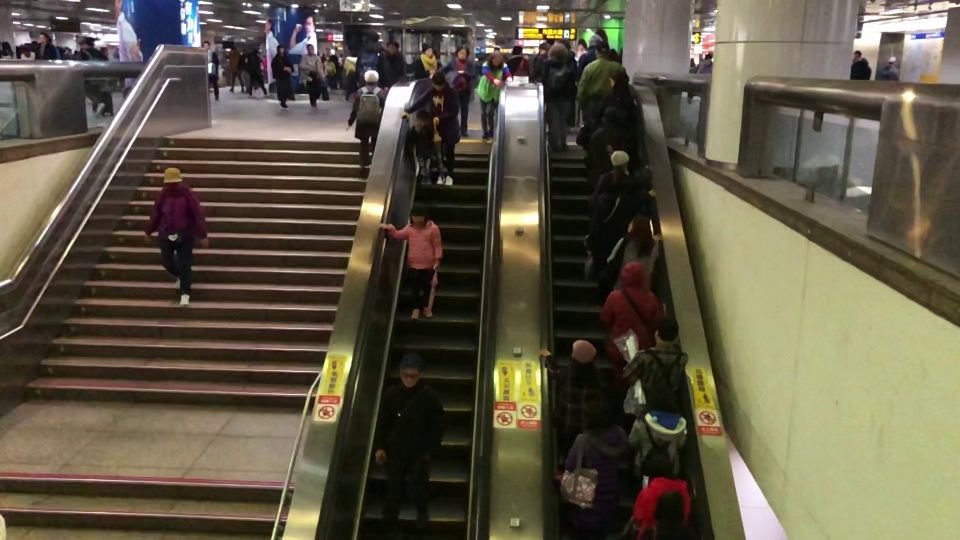person_head: (621, 315, 687, 419), (653, 488, 685, 527), (639, 444, 672, 475), (578, 398, 608, 432), (398, 353, 424, 388), (647, 380, 676, 411), (619, 260, 648, 289), (653, 316, 678, 343), (571, 339, 598, 363), (625, 215, 651, 237), (600, 106, 624, 126), (596, 191, 616, 214), (610, 72, 630, 94), (610, 149, 629, 172), (409, 199, 427, 223), (162, 167, 183, 187), (549, 42, 568, 60), (430, 70, 447, 90), (413, 108, 430, 127), (364, 29, 381, 45), (595, 41, 609, 60), (487, 49, 502, 66), (363, 68, 378, 83), (588, 32, 601, 49), (455, 45, 469, 60), (80, 39, 94, 50), (387, 40, 398, 53), (421, 42, 432, 55), (539, 42, 549, 55), (1, 41, 12, 51), (203, 40, 212, 51), (305, 42, 314, 53), (703, 53, 715, 61), (39, 32, 47, 43), (350, 47, 358, 58), (512, 45, 523, 53), (854, 50, 862, 61), (888, 54, 896, 64), (277, 44, 284, 54), (254, 48, 262, 56), (231, 44, 237, 52)
person_vbox: (374, 353, 448, 539), (143, 166, 208, 309), (564, 397, 627, 536), (596, 259, 665, 380), (379, 199, 444, 319), (539, 338, 605, 441), (623, 442, 692, 539), (403, 70, 460, 185), (627, 379, 687, 478), (585, 190, 631, 303), (346, 69, 383, 181), (588, 149, 657, 209), (541, 43, 578, 149), (587, 105, 640, 176), (440, 43, 480, 137), (576, 42, 629, 111), (475, 49, 510, 143), (80, 39, 115, 116), (621, 213, 662, 278), (593, 72, 640, 127), (409, 106, 435, 187), (576, 31, 615, 79), (355, 29, 388, 85), (299, 42, 325, 112), (271, 44, 295, 112), (238, 47, 268, 98), (202, 40, 221, 101), (413, 41, 440, 79), (342, 46, 358, 101), (386, 40, 406, 84), (228, 44, 244, 93), (506, 45, 529, 77), (532, 41, 550, 80), (33, 31, 57, 59), (851, 51, 870, 82), (880, 53, 901, 81), (697, 53, 715, 76)
